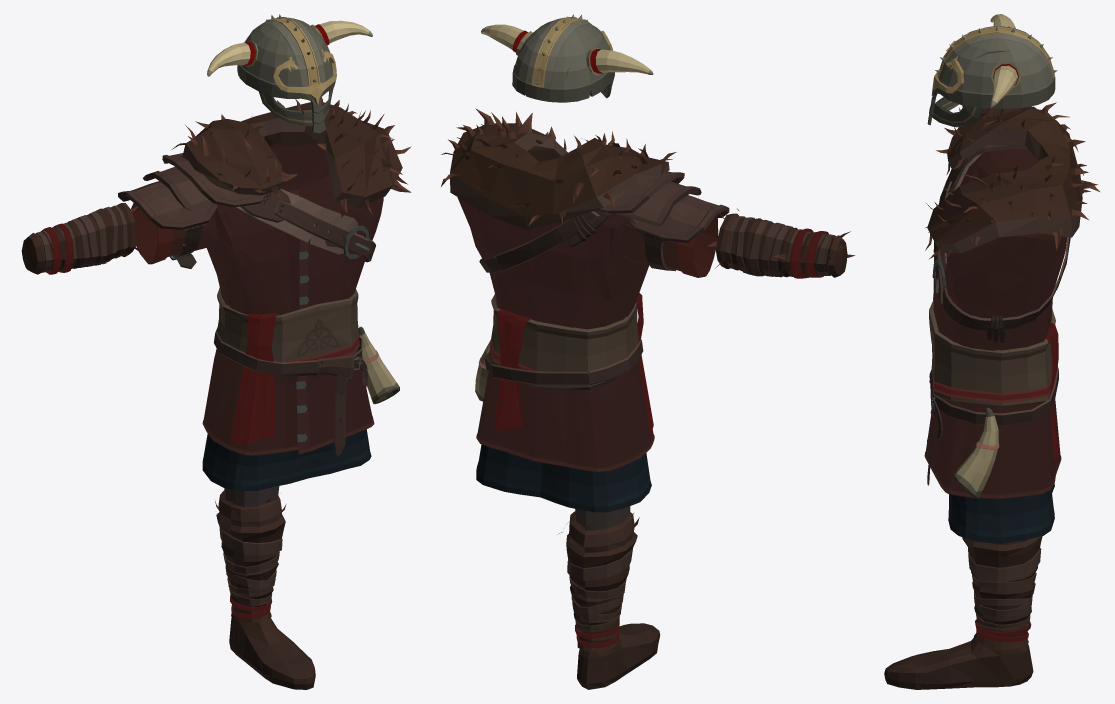
File: vikingArmorDetailed.glb
3 views of the same model, side by side, from view 1: azimuth 30°, elevation 25°; view 2: azimuth 150°, elevation 25°; view 3: azimuth 270°, elevation 25° (orthographic). The views are drawn at different scales.
Parts seen in each view (by area): view 1: vikingArmorBodyDetailed, vikingHelmetDetailed, vikingArmorBootLowerLeg, vikingArmorWristGuardLowerArm, vikingArmorUpperArm, vikingArmorBootFoot, vikingArmorPants; view 2: vikingArmorBodyDetailed, vikingHelmetDetailed, vikingArmorBootLowerLeg, vikingArmorWristGuardLowerArm, vikingArmorUpperArm, vikingArmorBootFoot, vikingArmorPants; view 3: vikingArmorBodyDetailed, vikingHelmetDetailed, vikingArmorBootLowerLeg, vikingArmorBootFoot, vikingArmorUpperArm.
Boxes of the visible parts, x1,y1,x2,y2 form: vikingArmorBodyDetailed: [143, 97, 411, 490]; vikingHelmetDetailed: [207, 14, 372, 133]; vikingArmorBootLowerLeg: [215, 490, 286, 622]; vikingArmorWristGuardLowerArm: [21, 203, 141, 274]; vikingArmorUpperArm: [118, 181, 218, 268]; vikingArmorBootFoot: [229, 617, 315, 689]; vikingArmorPants: [224, 486, 279, 507]; vikingArmorBodyDetailed: [441, 108, 701, 512]; vikingHelmetDetailed: [481, 14, 653, 102]; vikingArmorBootLowerLeg: [557, 511, 639, 651]; vikingArmorWristGuardLowerArm: [707, 208, 855, 278]; vikingArmorUpperArm: [620, 195, 729, 277]; vikingArmorBootFoot: [577, 623, 660, 689]; vikingArmorPants: [575, 506, 630, 530]; vikingArmorBodyDetailed: [924, 102, 1100, 543]; vikingHelmetDetailed: [927, 14, 1057, 127]; vikingArmorBootLowerLeg: [962, 536, 1042, 650]; vikingArmorBootFoot: [884, 638, 1033, 689]; vikingArmorUpperArm: [976, 106, 1038, 178].
Size of the model in its own units: 1.29 by 1.99 by 0.5826.
